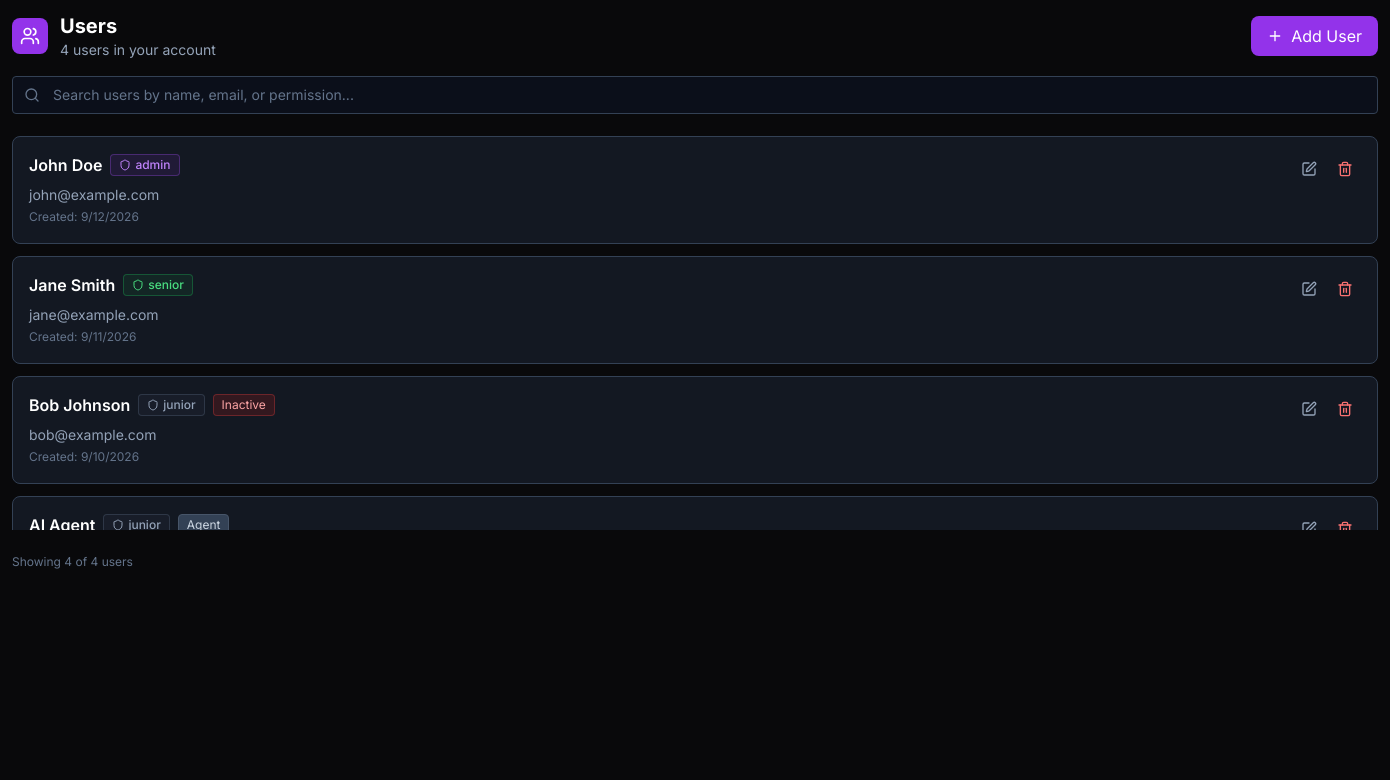
UsersListCard › Search and Filter › should clear search when X button clicked
Expected: the heading "John Doe" is shown, [29,153,102,177]
Type "jane" into the field with placeholder "Search users by name, email, or permission..." at (695, 95), box [12,76,1378,114]
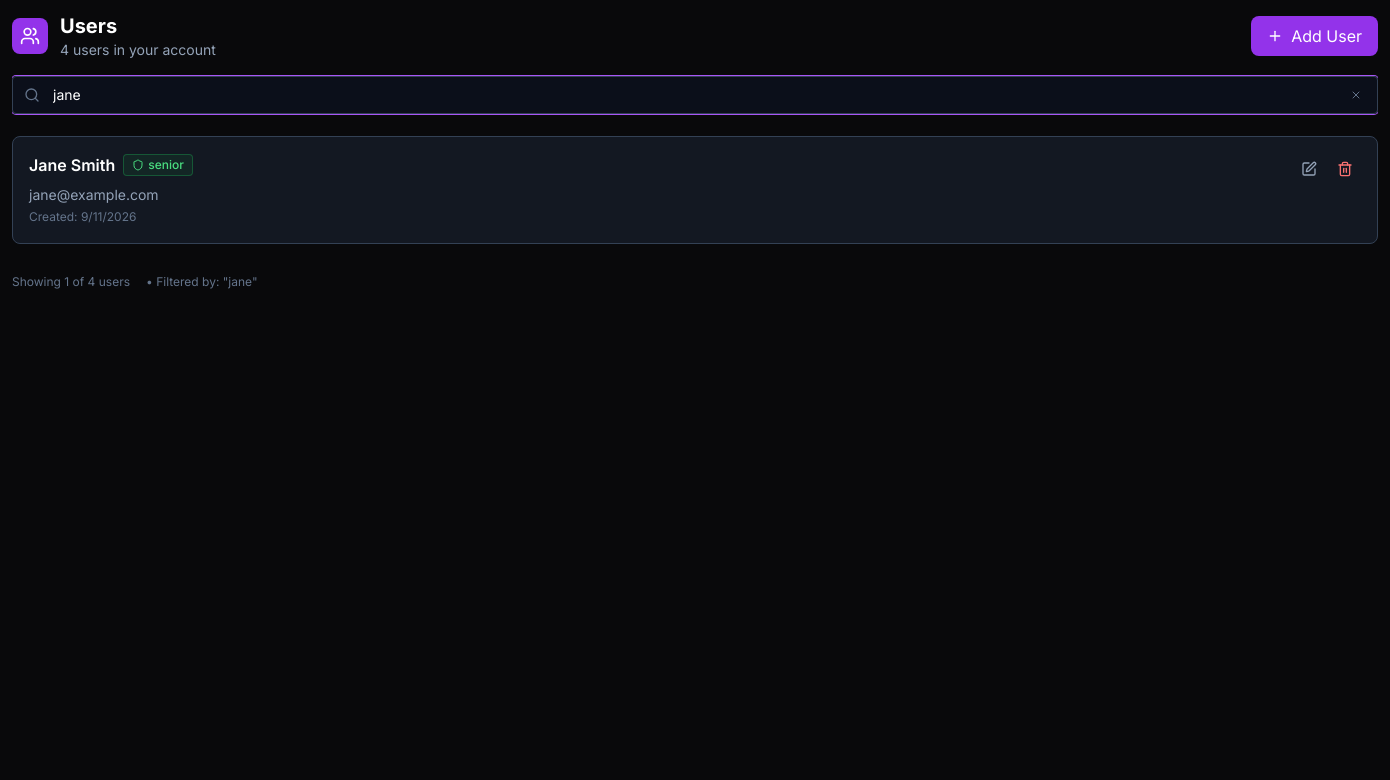
Result: the heading "John Doe" is gone
Result: the heading "Jane Smith" is shown at [29,153,115,177]
Click the 2nd button at (1356, 95), box [1346,85,1366,105]
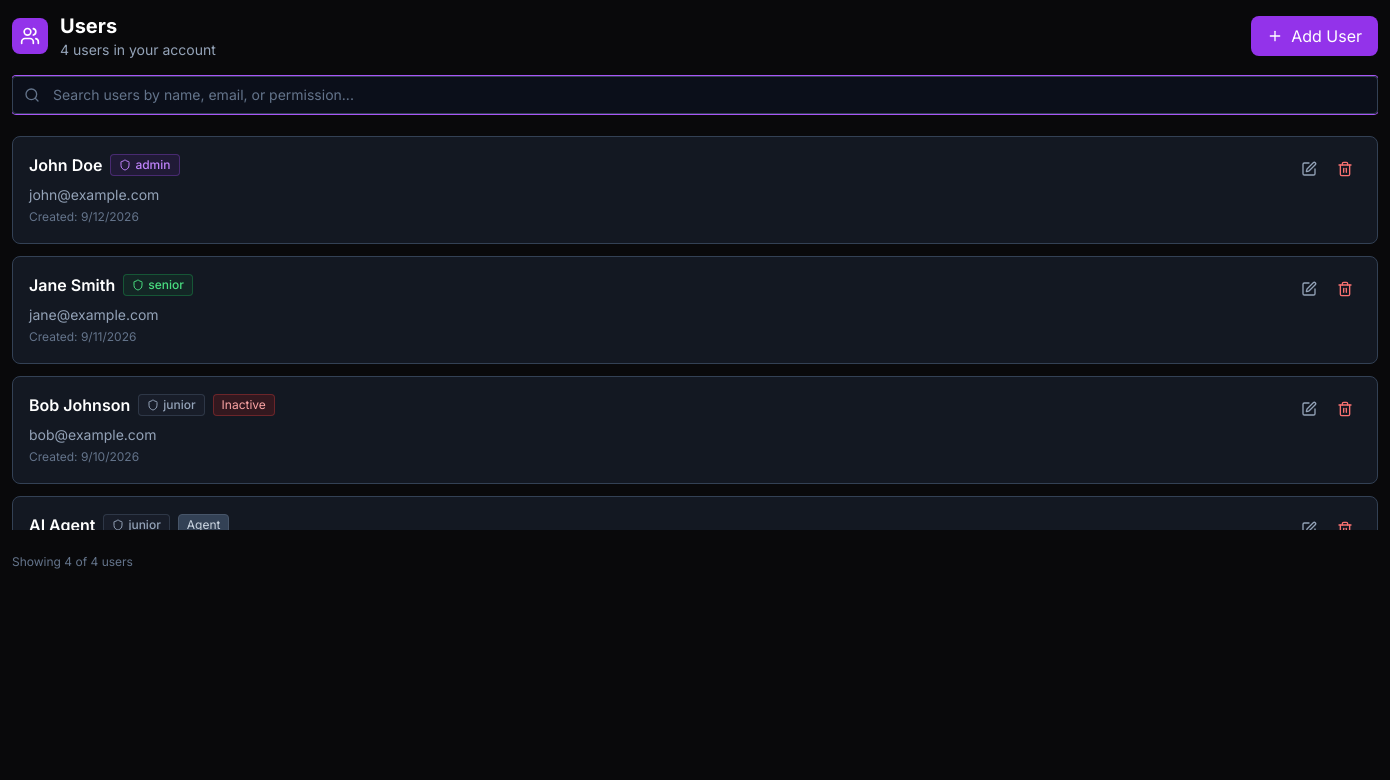
Expected: the heading "Jane Smith" is shown, [29,273,115,297]
Result: the heading "John Doe" is shown at [29,153,102,177]
